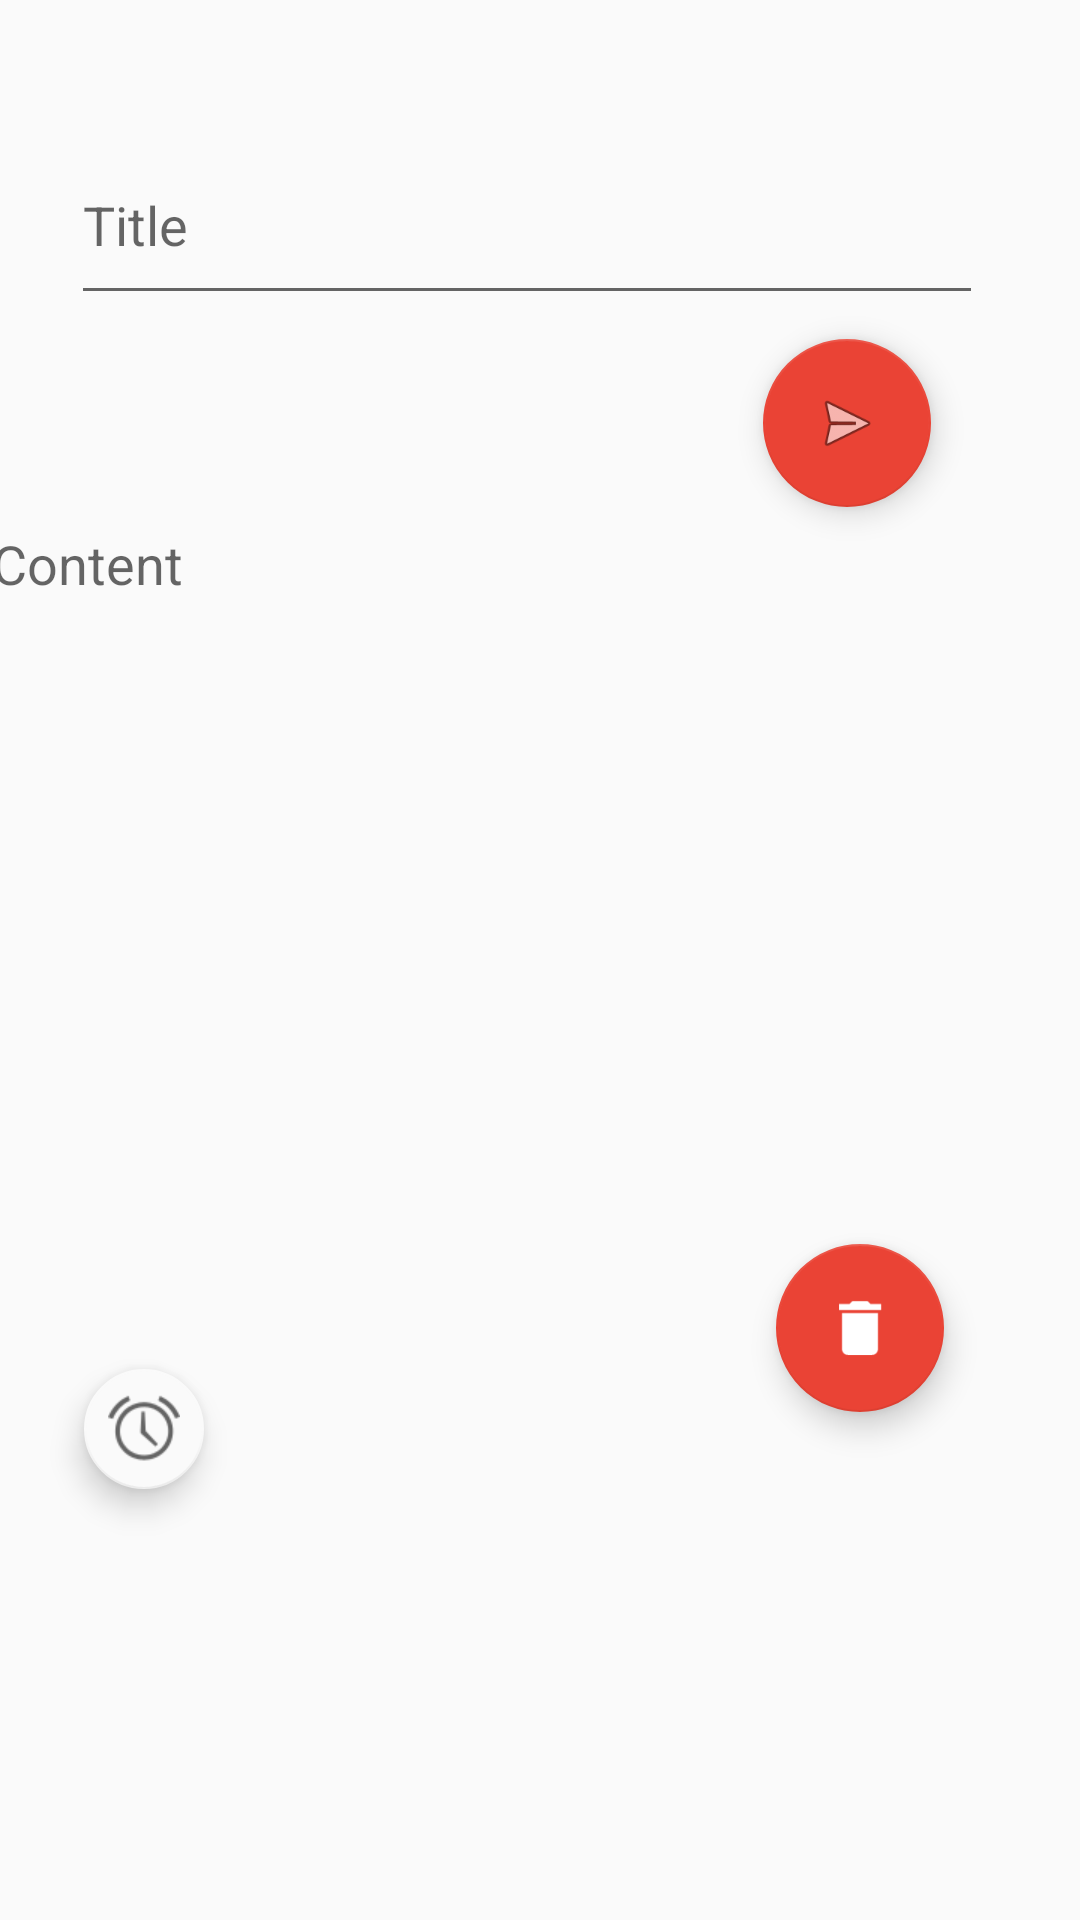

Where to tap for icons on this 1080px x 1920px app screen, as point (x, y):
delete: point (860, 1328)
lock idle alarm: point (153, 1428)
send: point (847, 423)
